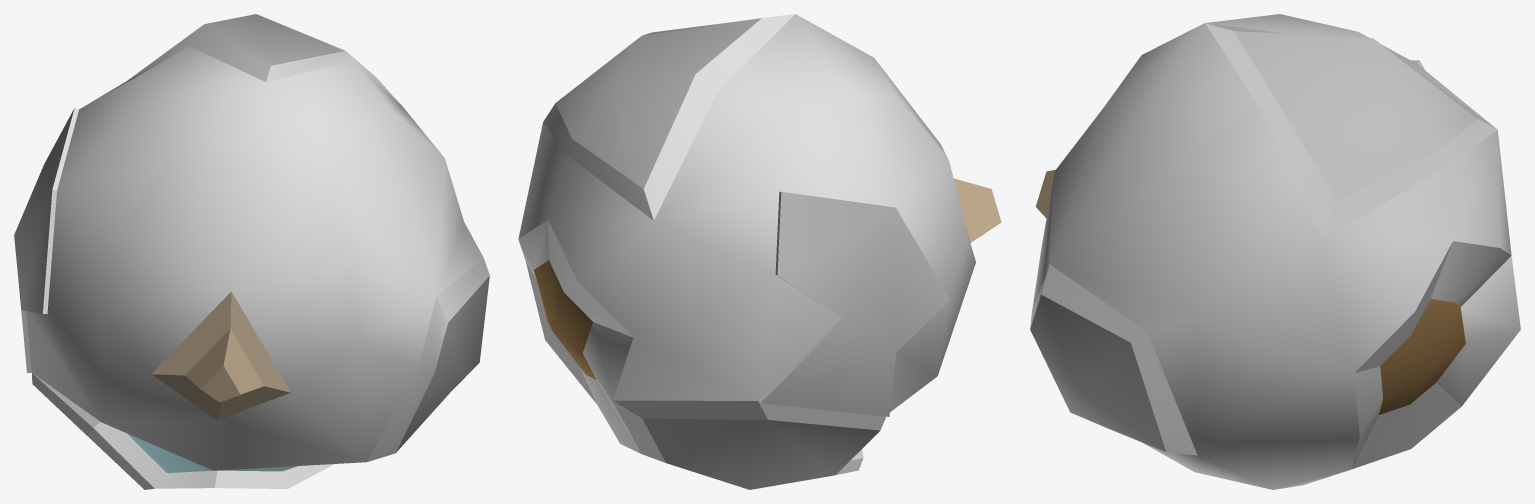
3 renders of one model, left to right at view 1: azimuth 30°, elevation 25°; view 2: azimuth 150°, elevation 25°; view 3: azimuth 270°, elevation 25°, orthographic. The views are drawn at different scales.
Parts seen in each view (by area): view 1: pSolid1; view 2: pSolid1; view 3: pSolid1.
Part boxes in pixels (left/top/right/bottom): pSolid1: left=14, top=14, right=489, bottom=489; pSolid1: left=518, top=14, right=1001, bottom=489; pSolid1: left=1030, top=14, right=1520, bottom=489.
Bounding box in the file's own units: 23.35 × 24.05 × 23.74.
